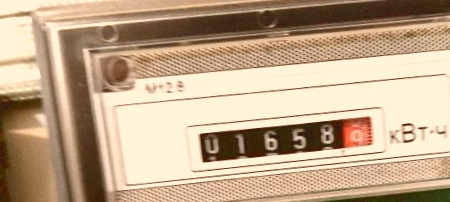0: (201, 131, 220, 154)
1: (231, 129, 247, 155)
5: (288, 124, 307, 150)
6: (260, 126, 280, 152)
8: (316, 121, 336, 145)
9: (346, 125, 364, 148)
screen: (180, 97, 392, 179)
